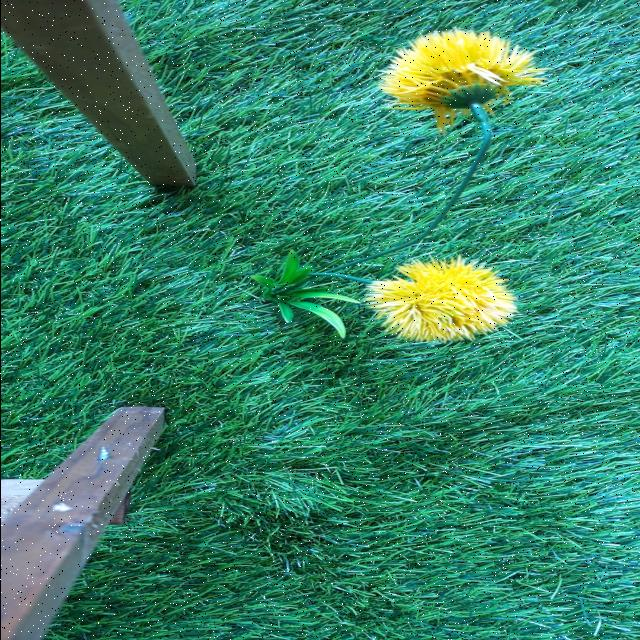base: (252, 253, 358, 335)
flower: (382, 30, 546, 112), (383, 260, 513, 341)
